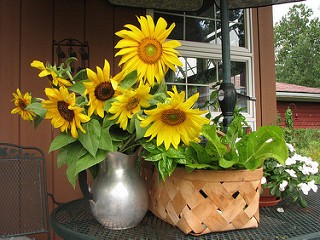flower: (111, 12, 184, 88), (137, 85, 211, 153), (81, 59, 129, 120), (40, 85, 88, 139), (107, 81, 153, 130), (27, 58, 75, 87), (8, 87, 45, 122)
